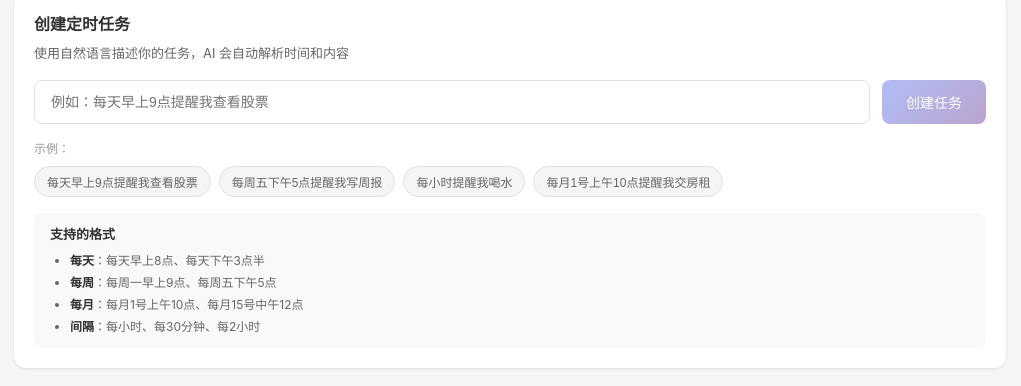
TaskCreator › fills input on example click
Click the button "每天早上9点提醒我查看股票" at x=122, y=181, box [34,166,211,196]
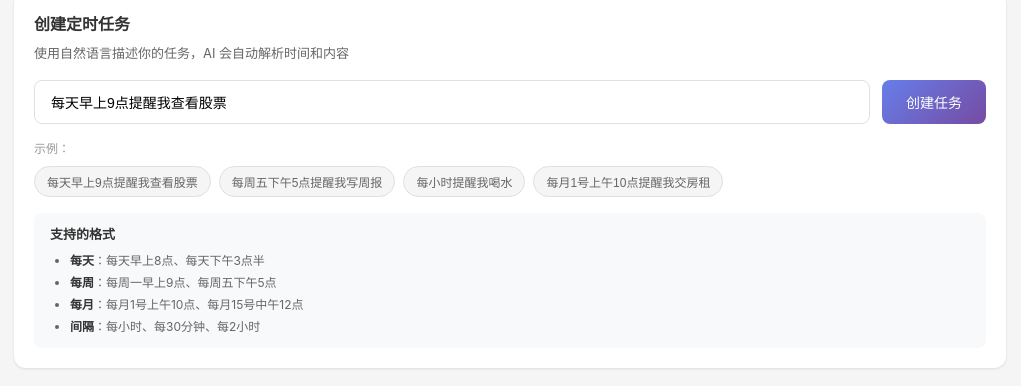
Check: the field with placeholder "例如：每天早上9点提醒我查看股票" holds "每天早上9点提醒我查看股票", box [34,80,870,124]
